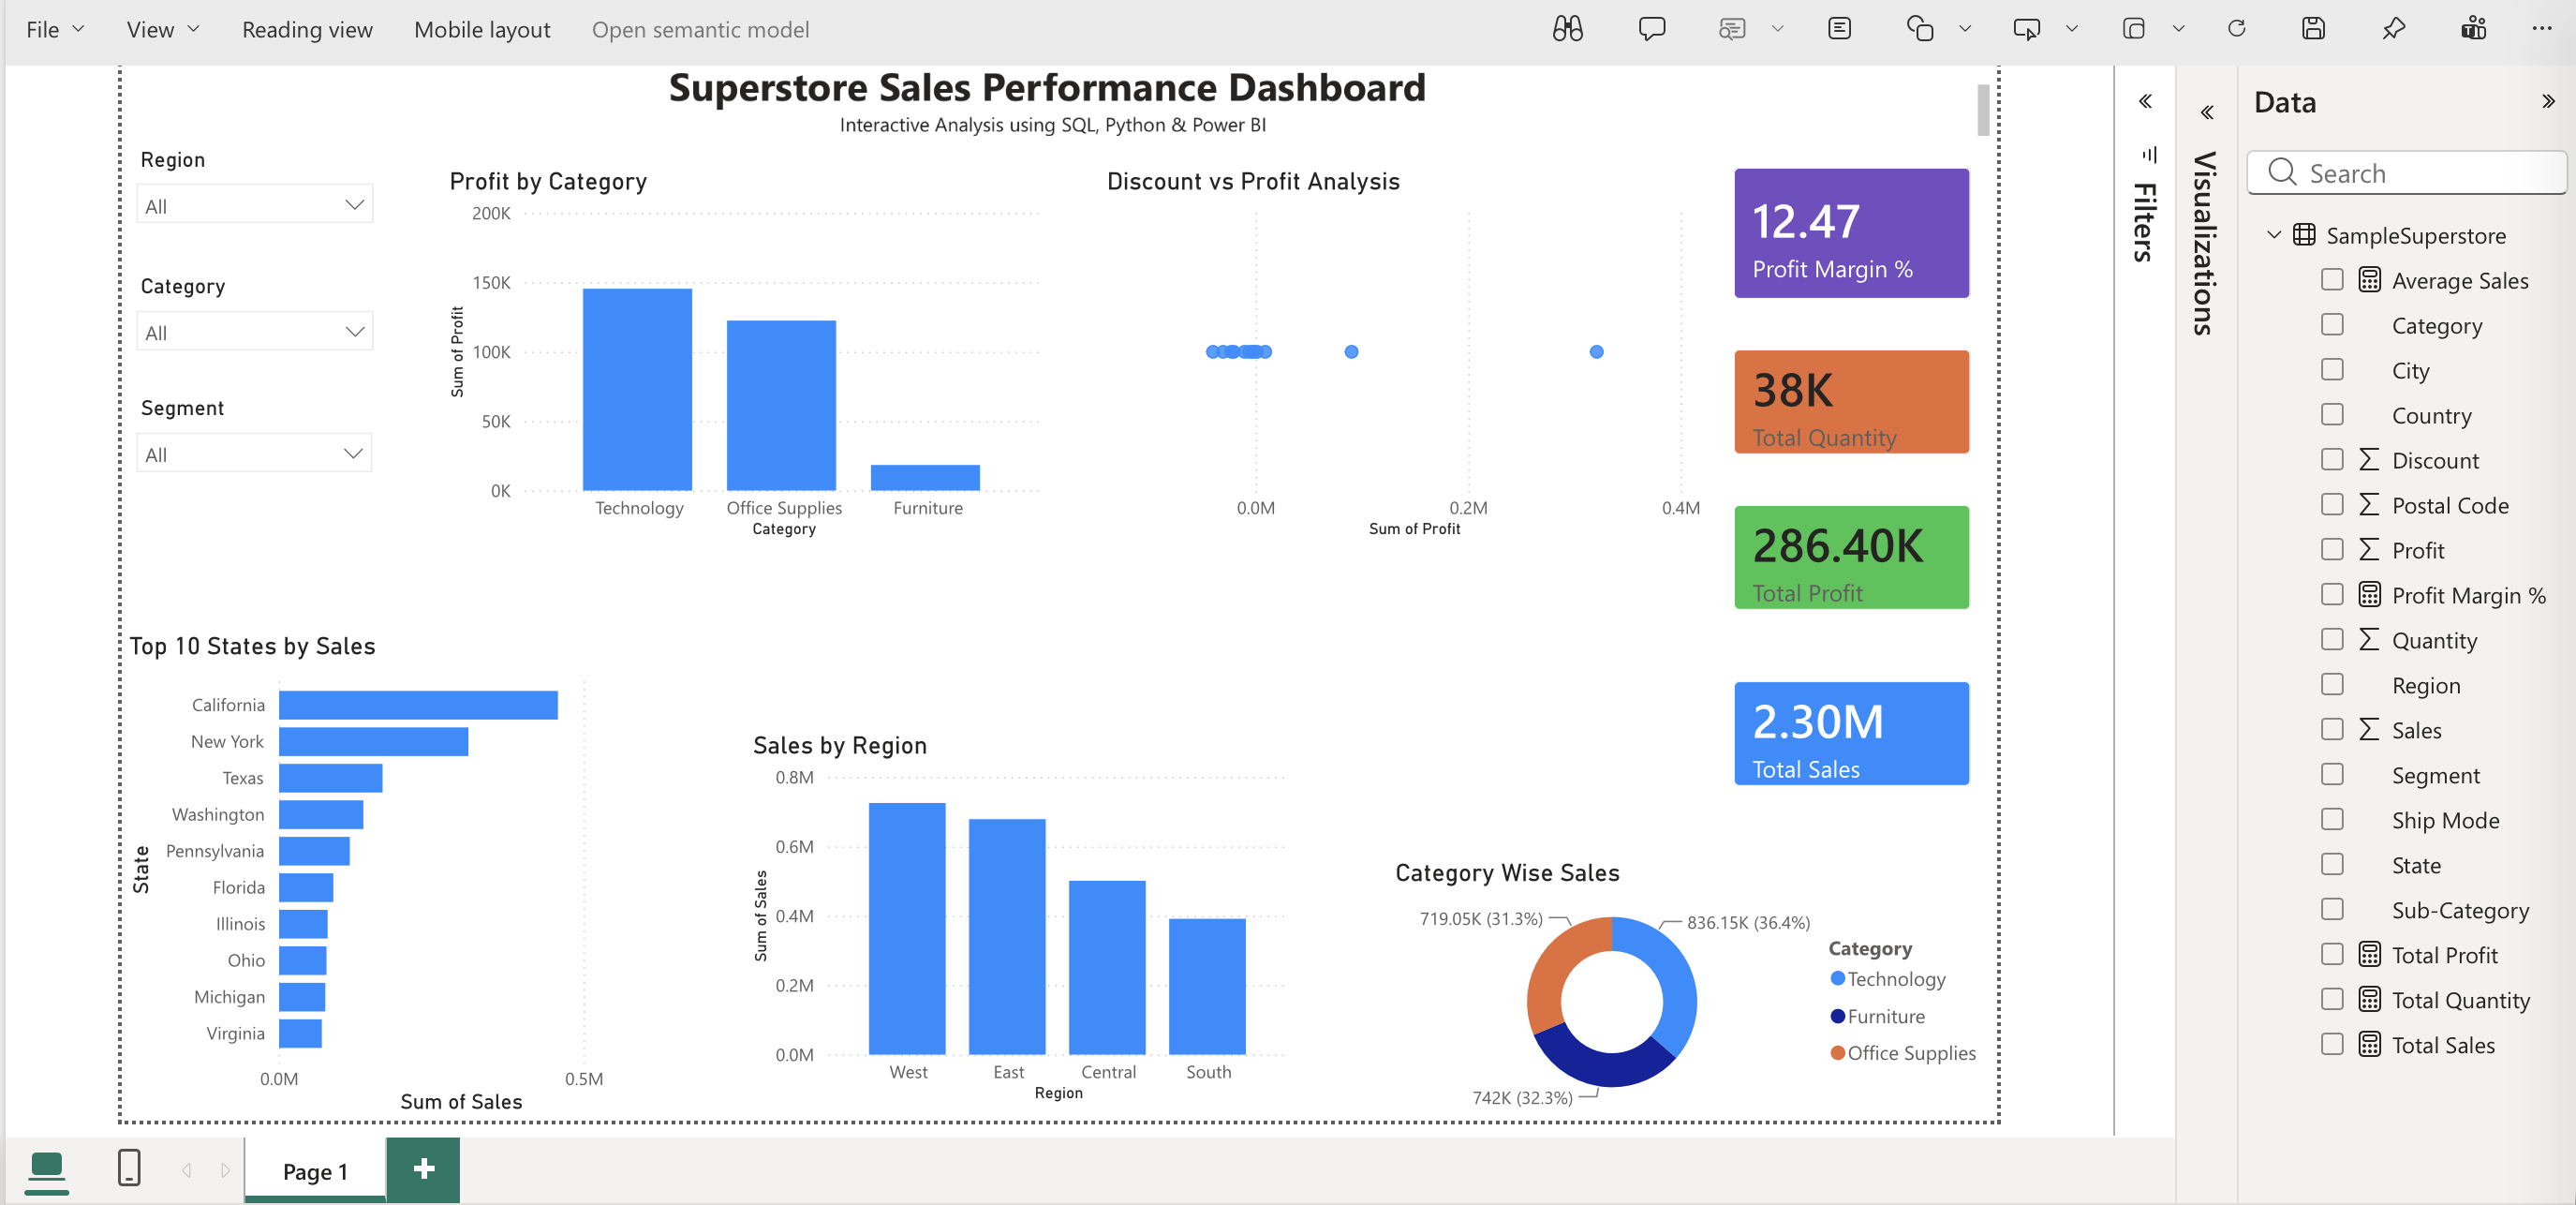

The dashboard page shown, as its layout file describes it:
{"tool":"powerbi","page":{"name":"Page 1","canvas":[1280,720],"ordinal":0},"visuals":[{"type":"textbox","box":[0,0,1280,52.8],"z":0},{"type":"cardVisual","fields":{"Data":["SampleSuperstore.Total Profit"]},"box":[1083.5,283,196.5,106.1],"z":1000},{"type":"cardVisual","fields":{"Data":["SampleSuperstore.Total Sales"]},"box":[1083.5,402.2,196.5,106.1],"z":2000},{"type":"clusteredColumnChart","title":"Sales by Region","fields":{"Category":["SampleSuperstore.Region"],"Y":["Sum(SampleSuperstore.Sales)"]},"box":[425.8,455.9,376.1,255.7],"z":3000},{"type":"cardVisual","fields":{"Data":["SampleSuperstore.Total Quantity"]},"box":[1083.5,176.9,196.5,106.1],"z":4000},{"type":"donutChart","title":"Category Wise Sales","fields":{"Category":["SampleSuperstore.Category"],"Y":["Sum(SampleSuperstore.Sales)"]},"box":[864.7,543.7,415.7,176.5],"z":5000},{"type":"clusteredBarChart","title":"Top 10 States by Sales","fields":{"Category":["SampleSuperstore.State"],"Y":["Sum(SampleSuperstore.Sales)"]},"box":[0,389.1,376,331.5],"z":6000},{"type":"clusteredColumnChart","title":"Profit by Category","fields":{"Category":["SampleSuperstore.Category"],"Y":["Sum(SampleSuperstore.Profit)"]},"box":[218.8,72.1,415.7,255.7],"z":7000},{"type":"scatterChart","title":"Discount vs Profit Analysis","fields":{"Category":["SampleSuperstore.Discount"],"X":["Sum(SampleSuperstore.Profit)"]},"box":[668.2,72.1,415.7,255.7],"z":8000},{"type":"slicer","fields":{"Values":["SampleSuperstore.Region"]},"box":[0,52.4,182.1,60.3],"z":9000},{"type":"slicer","fields":{"Values":["SampleSuperstore.Category"]},"box":[0,138.9,182.1,60.3],"z":10000},{"type":"slicer","fields":{"Values":["SampleSuperstore.Segment"]},"box":[0,222.7,180.8,60.3],"z":11000},{"type":"cardVisual","fields":{"Data":["SampleSuperstore.Profit Margin %"]},"box":[1083.5,52.4,196.5,124.5],"z":12000}]}

Visuals, with their boxes on the page's 1280x720 design canvas (x1, y1, x2, y2). These are canvas units, not pixel positions in the 2576x1205 screenshot, which may show the page scaled, cropped or inside an application window:
textbox: [left=0, top=0, right=1280, bottom=53]
cardVisual - SampleSuperstore.Total Profit: [left=1084, top=283, right=1280, bottom=389]
cardVisual - SampleSuperstore.Total Sales: [left=1084, top=402, right=1280, bottom=508]
"Sales by Region" clusteredColumnChart: [left=426, top=456, right=802, bottom=712]
cardVisual - SampleSuperstore.Total Quantity: [left=1084, top=177, right=1280, bottom=283]
"Category Wise Sales" donutChart: [left=865, top=544, right=1280, bottom=720]
"Top 10 States by Sales" clusteredBarChart: [left=0, top=389, right=376, bottom=721]
"Profit by Category" clusteredColumnChart: [left=219, top=72, right=634, bottom=328]
"Discount vs Profit Analysis" scatterChart: [left=668, top=72, right=1084, bottom=328]
slicer - SampleSuperstore.Region: [left=0, top=52, right=182, bottom=113]
slicer - SampleSuperstore.Category: [left=0, top=139, right=182, bottom=199]
slicer - SampleSuperstore.Segment: [left=0, top=223, right=181, bottom=283]
cardVisual - SampleSuperstore.Profit Margin %: [left=1084, top=52, right=1280, bottom=177]
